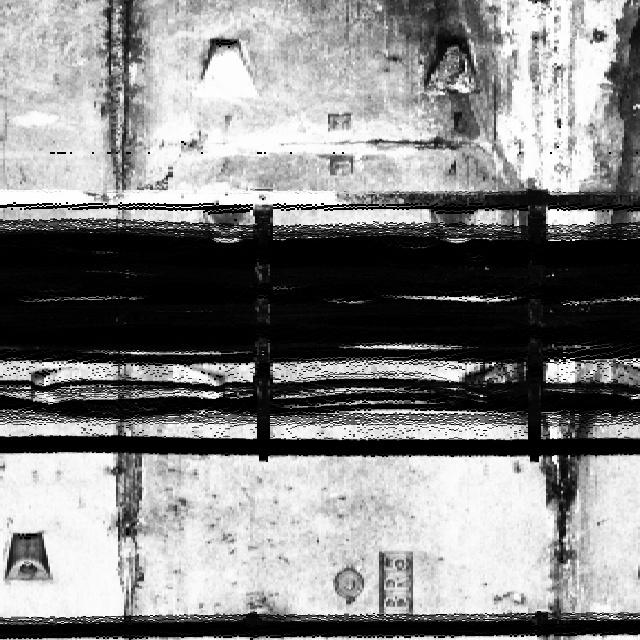leakage: (382, 2, 639, 543)
